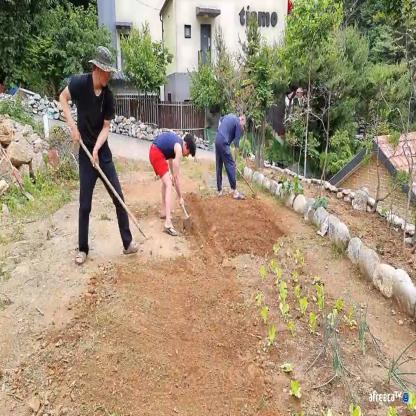streamer: (60, 46, 140, 263), (150, 131, 197, 235), (215, 111, 247, 199)
